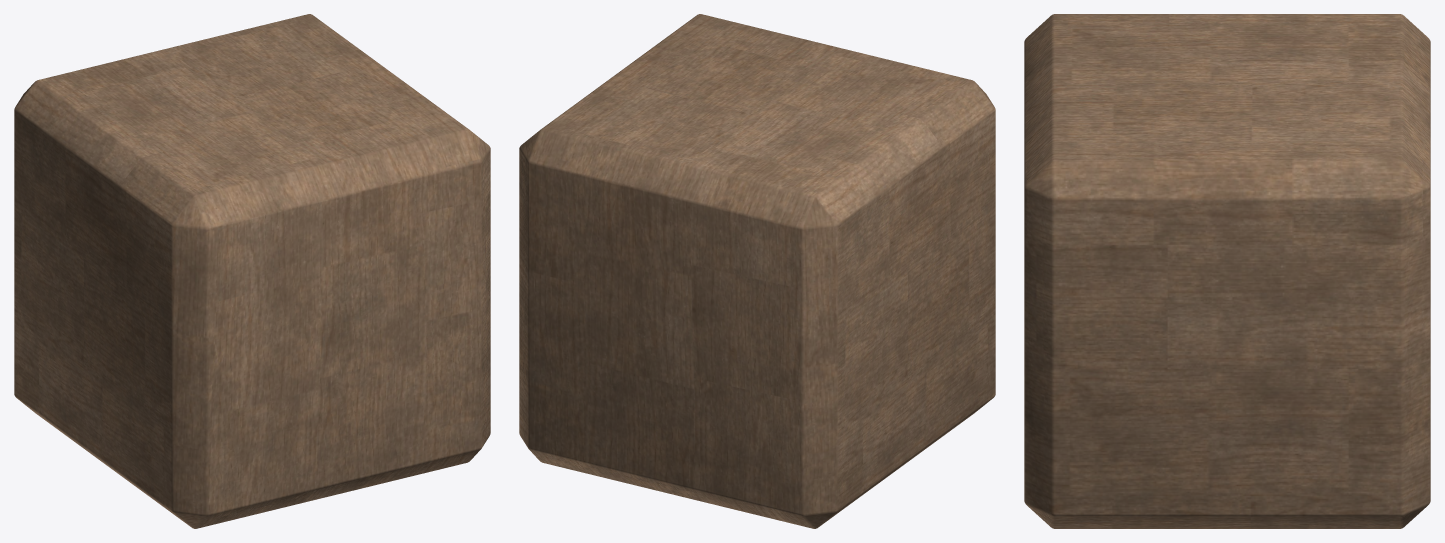
The model's file is block5.fbx.
The picture shows the model from 3 angles, left to right: view 1: azimuth 30°, elevation 25°; view 2: azimuth 150°, elevation 25°; view 3: azimuth 270°, elevation 25°; orthographic projection. The views are drawn at different scales.
Parts seen in each view (by area): view 1: block5; view 2: block5; view 3: block5.
Boxes of the visible parts, <box> form: block5: <box>14,14,490,528</box>; block5: <box>519,14,995,528</box>; block5: <box>1024,14,1430,528</box>.
Bounding box in the file's own units: 200 × 200 × 200.
